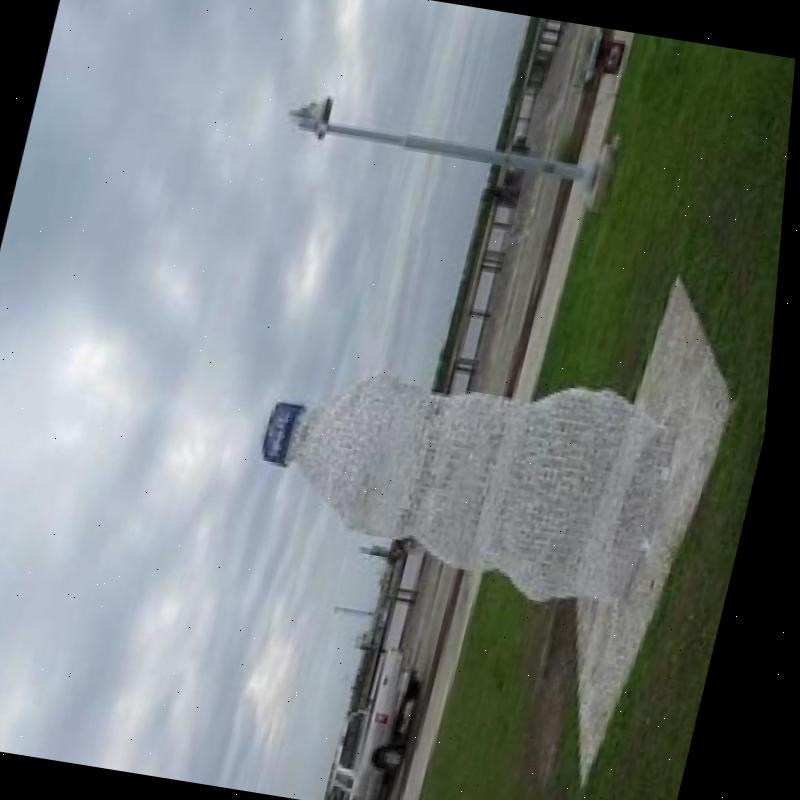botella: (241, 339, 698, 616)
